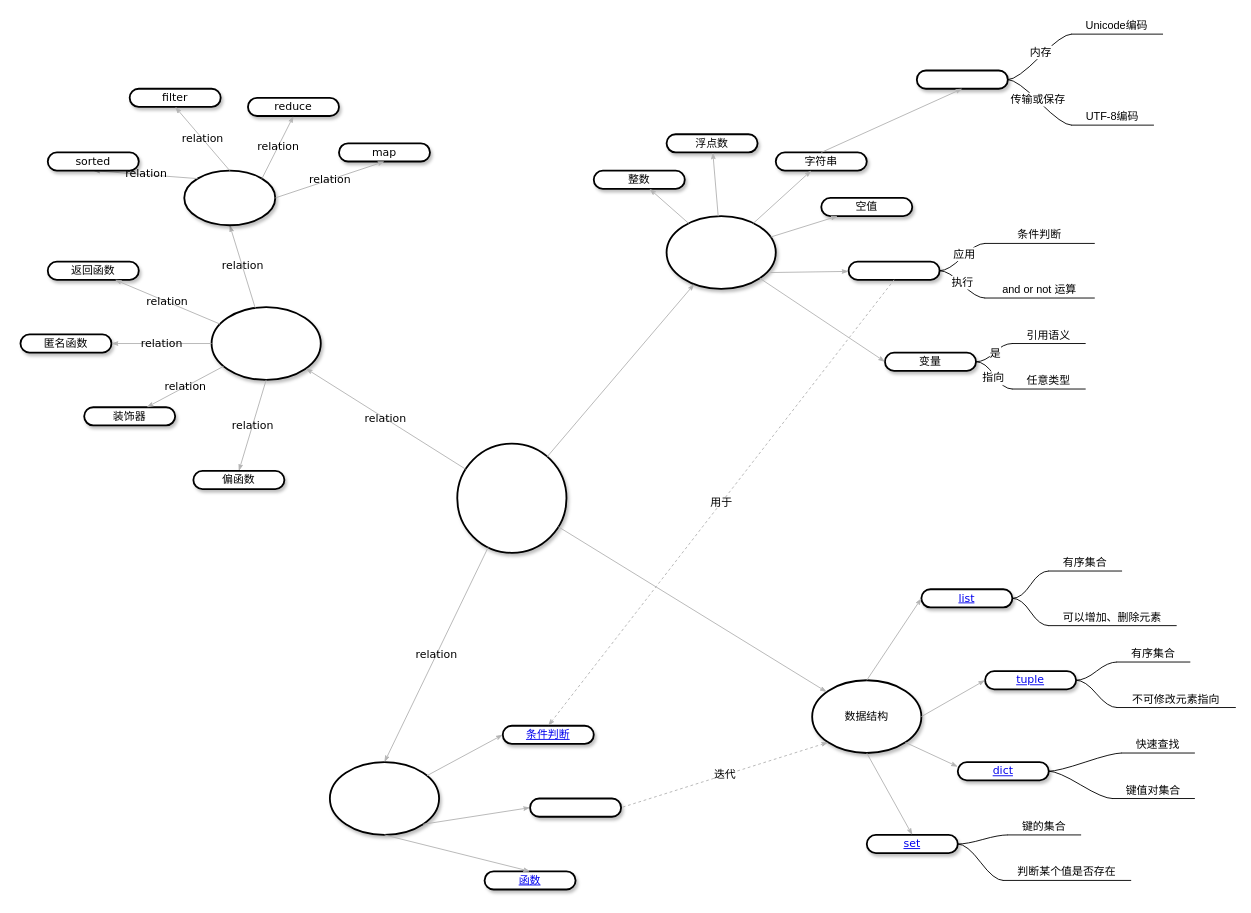
Image size: 1251x913. Some labels were removed from this diagram. The centre of each missing label's shape, as x and y in pixels:
"python3" goes at point 512,499.
"函数式编程" goes at point 267,344.
"基本控制结构" goes at point 385,799.
"布尔值" goes at point 894,272.
"循环" goes at point 576,809.
"控制结构" goes at point 230,199.
"类型系统" goes at point 722,253.
"编码" goes at point 963,81.
